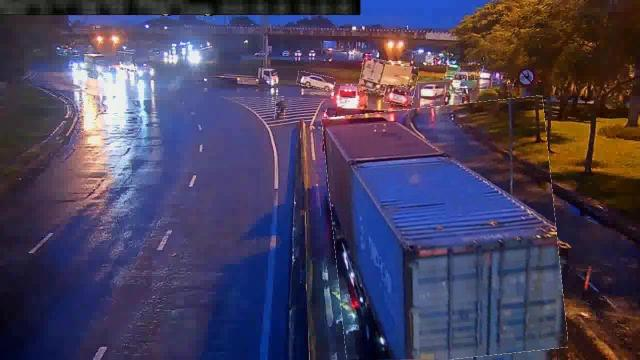Bike: (275, 96, 285, 120)
Car: (297, 73, 335, 89), (384, 86, 414, 106), (419, 82, 447, 99)
Truck: (328, 101, 562, 359), (360, 60, 418, 94)
